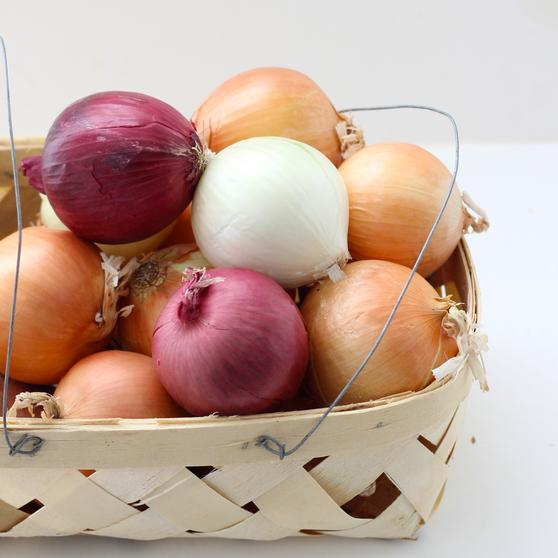onion: (300, 259, 470, 411), (4, 225, 125, 389), (343, 140, 487, 276)
